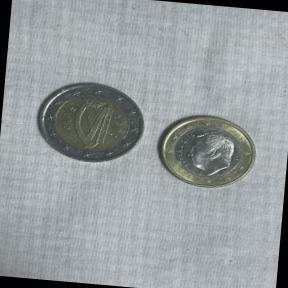coin: (30, 72, 150, 172), (149, 107, 262, 196)
